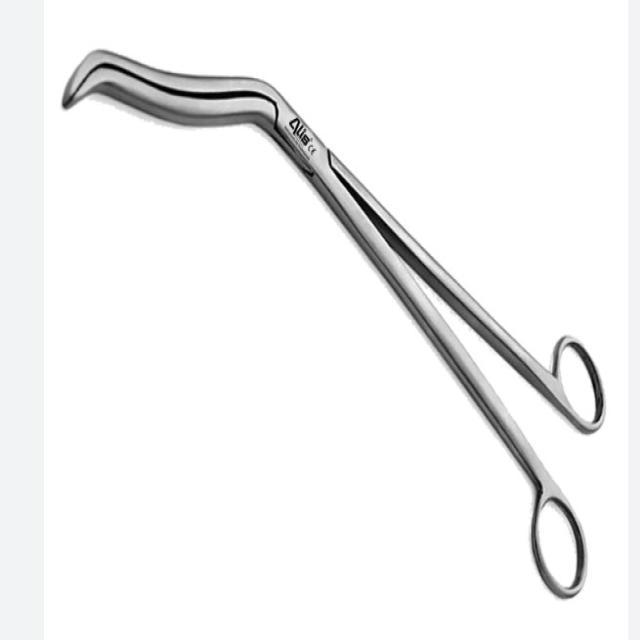Cheatle Forceps: (59, 39, 606, 604)
